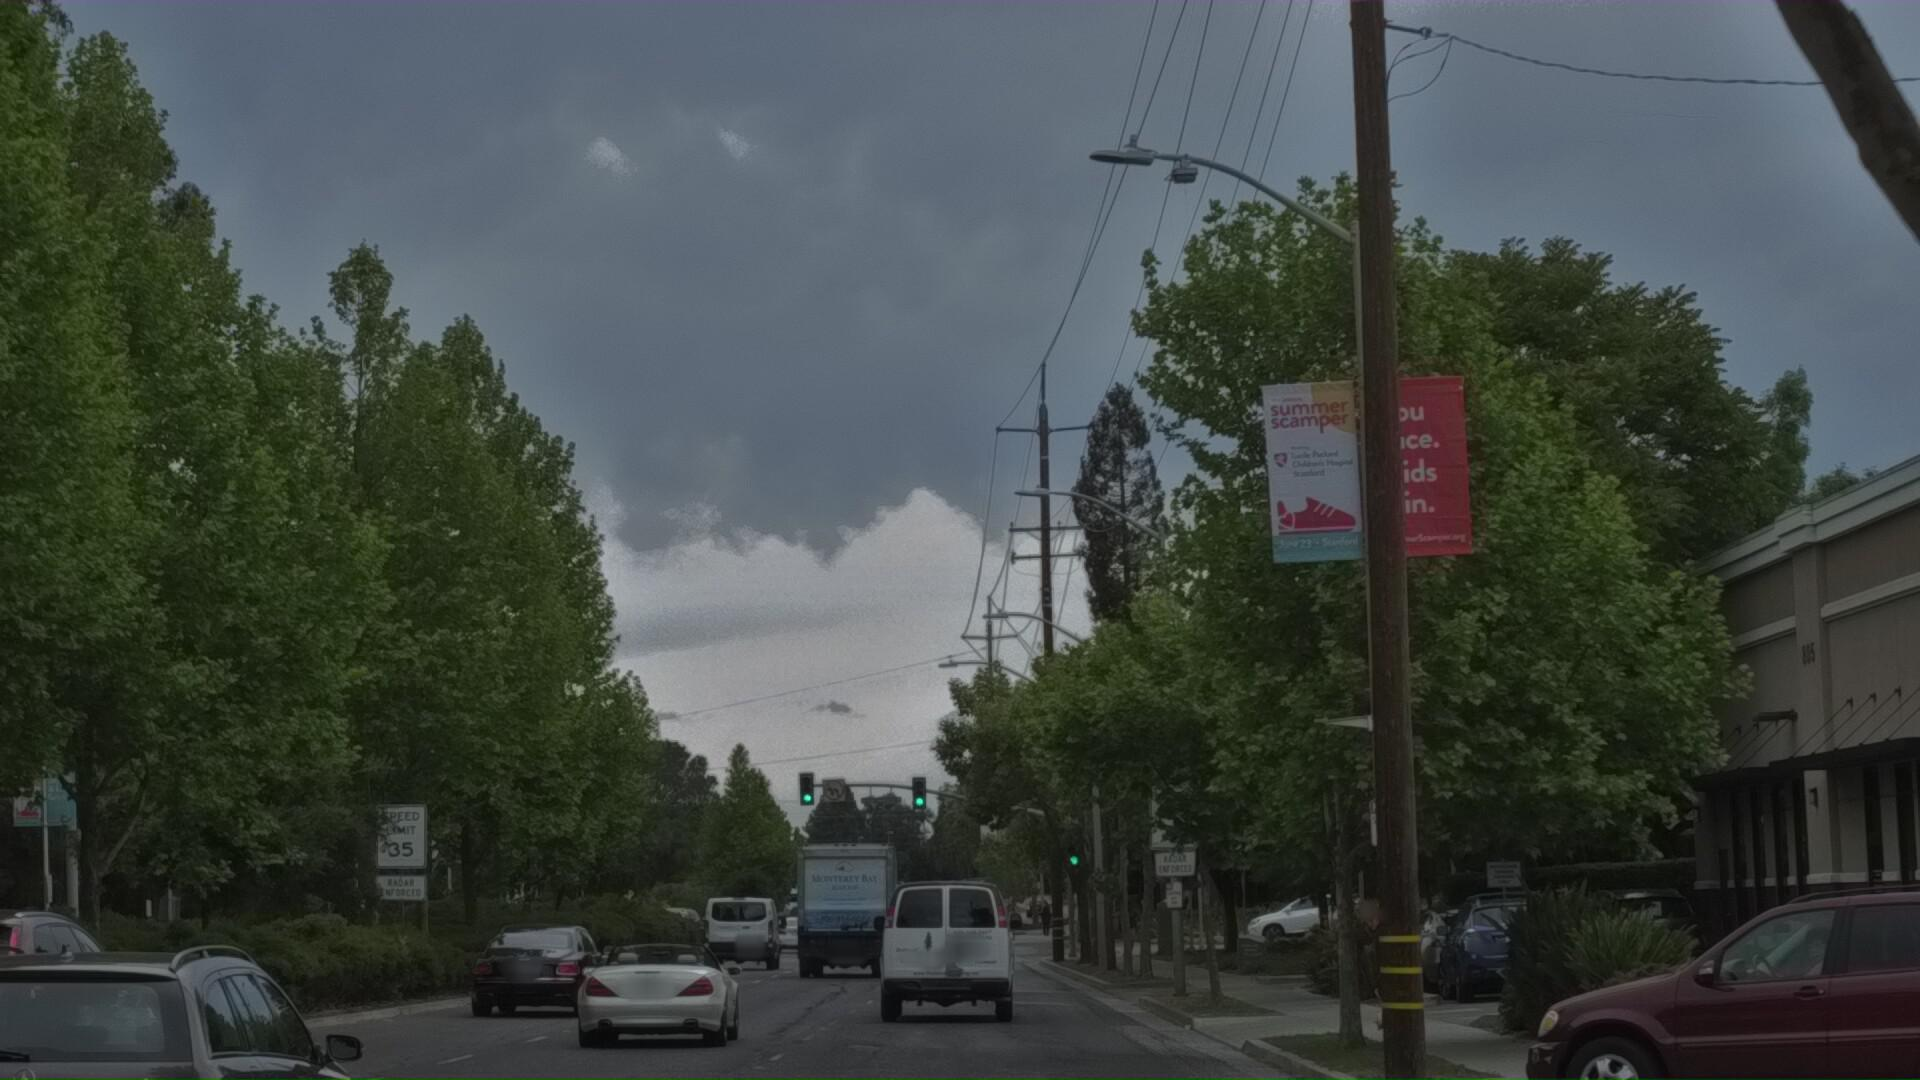car: (1480, 874, 1920, 1080), (0, 930, 382, 1080), (0, 907, 177, 1080), (574, 959, 771, 1080), (1440, 901, 1600, 1025), (1568, 898, 1724, 1011), (1408, 915, 1552, 1021)
truck: (876, 897, 1042, 1075), (465, 951, 633, 1076)
